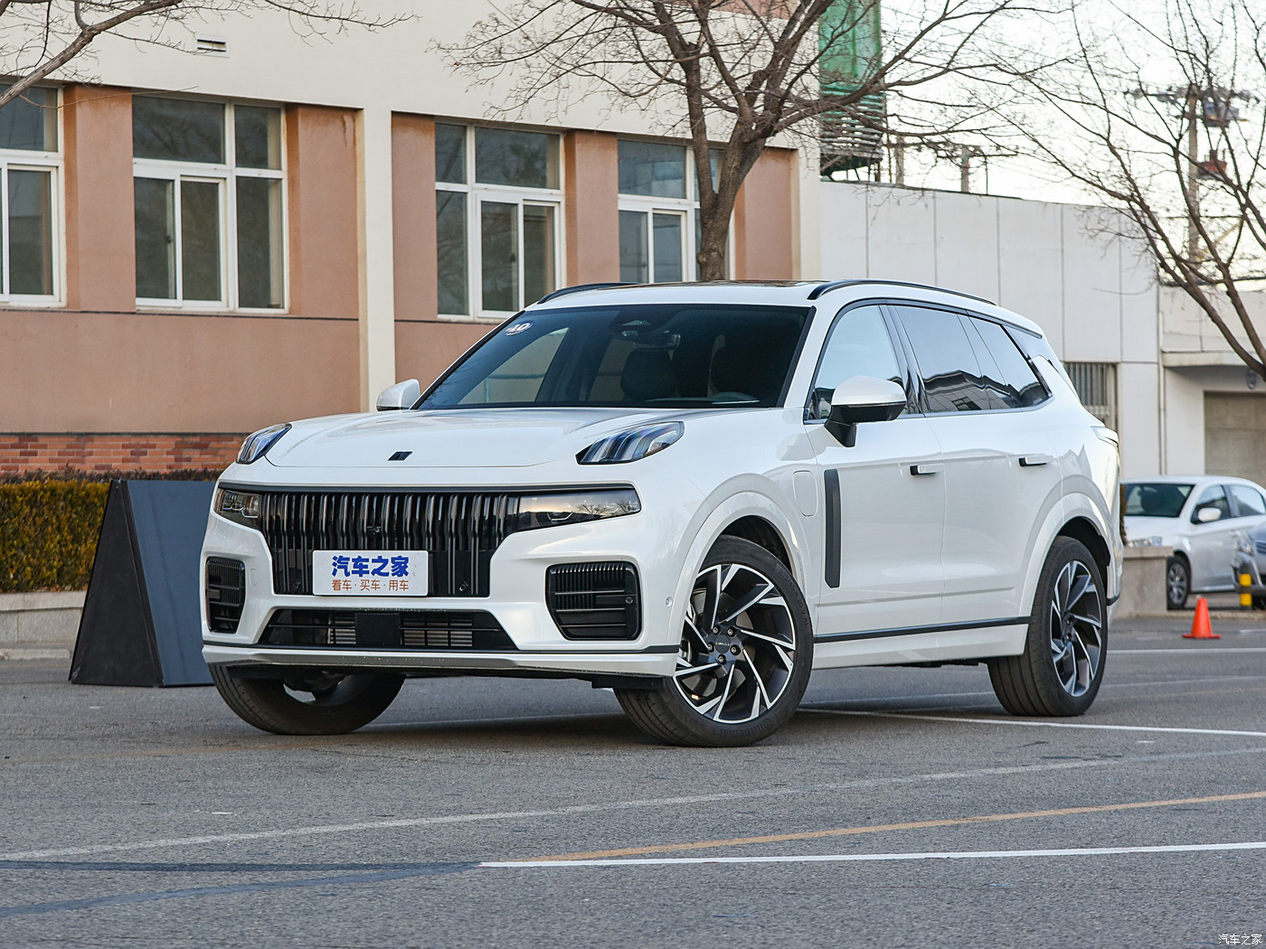LINK&CO: (388, 451, 411, 461)
